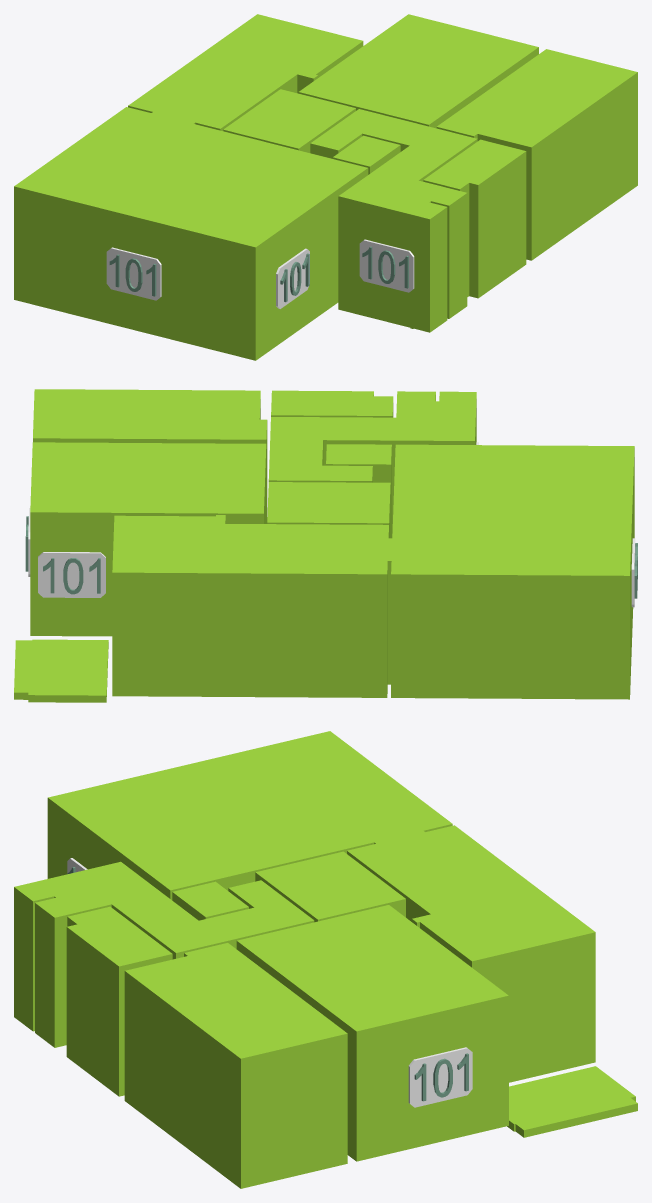
3 renders of one model, top to bottom at view 1: azimuth 30°, elevation 25°; view 2: azimuth 150°, elevation 25°; view 3: azimuth 270°, elevation 25°, orthographic. The views are drawn at different scales.
Visible parts, largest first — view 1: g_7, g_1, g_3, g_0, g_6, g_2, g_4, g_24, g_20, g_5, g_12; view 2: g_7, g_6, g_0, g_1, g_3, g_8, g_4, g_2, g_28, g_5; view 3: g_1, g_7, g_0, g_6, g_3, g_2, g_8, g_4, g_16, g_5.
Part boxes in pixels (box(x1,y1,x2,y2)): g_7: box(14, 107, 368, 360); g_1: box(436, 49, 637, 260); g_3: box(310, 109, 477, 332); g_0: box(298, 14, 538, 128); g_6: box(128, 14, 363, 130); g_2: box(423, 139, 526, 298); g_4: box(223, 89, 355, 152); g_24: box(106, 247, 161, 300); g_20: box(359, 239, 414, 292); g_5: box(332, 135, 400, 174); g_12: box(276, 248, 309, 308); g_7: box(389, 444, 634, 699); g_6: box(112, 515, 390, 697); g_0: box(30, 442, 266, 636); g_1: box(33, 389, 267, 523); g_3: box(268, 391, 476, 537); g_8: box(14, 639, 108, 702); g_4: box(267, 482, 390, 538); g_2: box(271, 390, 393, 417); g_28: box(38, 552, 105, 597); g_5: box(326, 444, 391, 538); g_1: box(124, 943, 347, 1188); g_7: box(47, 731, 452, 900); g_0: box(236, 905, 508, 1161); g_6: box(347, 825, 595, 1082); g_3: box(14, 861, 314, 1047); g_2: box(66, 906, 172, 1096); g_8: box(507, 1066, 637, 1137); g_4: box(255, 851, 405, 922); g_16: box(408, 1047, 472, 1107); g_5: box(172, 881, 248, 920).
Size of the model in its own units: 13.9 by 2.74 by 11.18.
